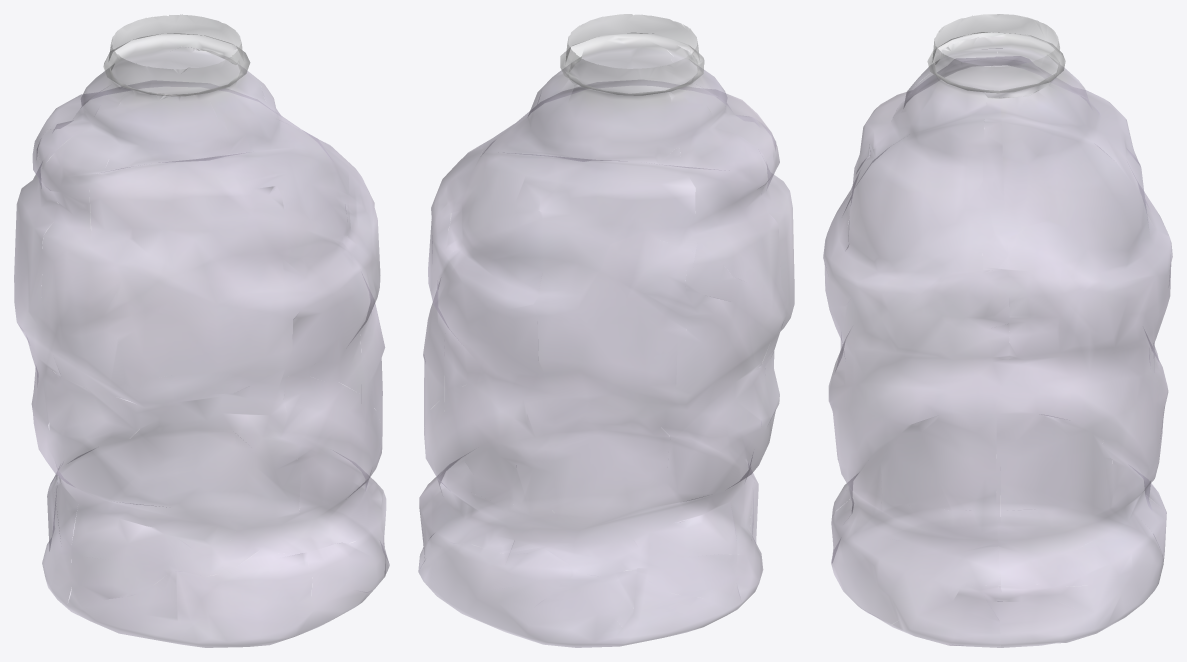
Rendered from 07_14_nj_et_prp_s_trs-opt-v48.glb.
3 views of the same model, side by side, from view 1: azimuth 30°, elevation 25°; view 2: azimuth 150°, elevation 25°; view 3: azimuth 270°, elevation 25° (orthographic). The views are drawn at different scales.
Visible parts, largest first — view 1: prp.002; view 2: prp.002; view 3: prp.002.
Part boxes in pixels (x1,y1,x2,y2): prp.002: (14, 14, 389, 647); prp.002: (418, 14, 794, 647); prp.002: (823, 14, 1172, 647).
Size of the model in its own units: 0.1222 by 0.1901 by 0.1149.
Materials: 1 (1 with a texture image).
